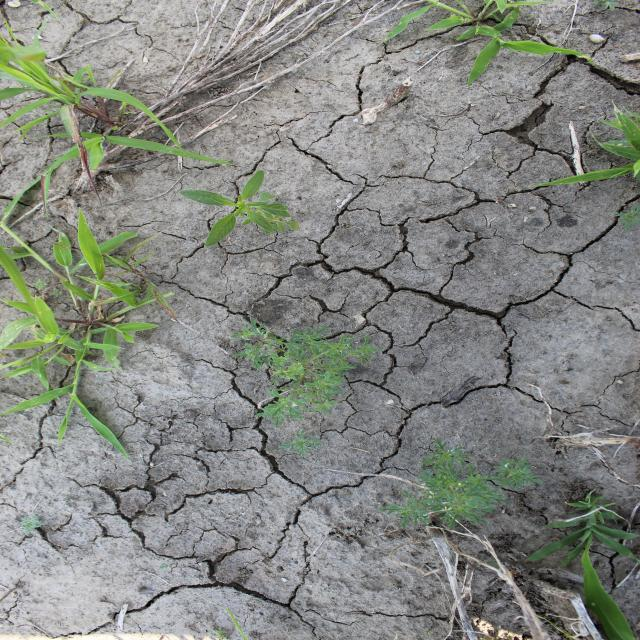Goosegrass: (524, 486, 638, 637)
Ragweed: (229, 313, 385, 429), (376, 436, 546, 532), (276, 429, 328, 460)
Waterhemp: (177, 169, 304, 249)
